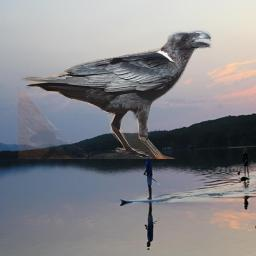Crow: (18, 28, 212, 159)
